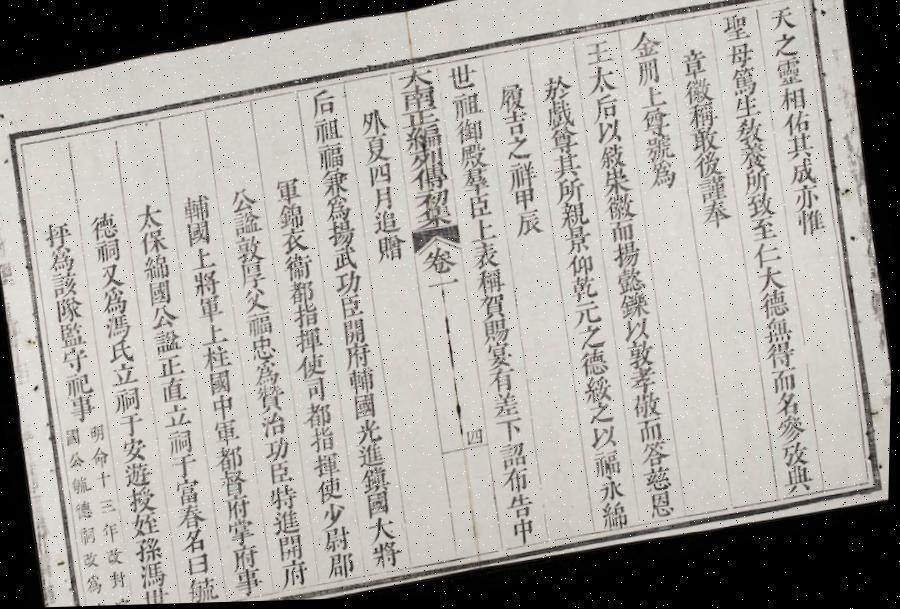c: (418, 244, 462, 280), (408, 164, 454, 197), (582, 64, 622, 100), (401, 124, 446, 156), (756, 290, 796, 324), (368, 539, 408, 573), (676, 47, 712, 84), (468, 239, 506, 274), (627, 29, 665, 64), (541, 99, 579, 134), (644, 161, 682, 196), (717, 13, 755, 48), (598, 501, 635, 536), (178, 190, 216, 224), (372, 233, 410, 267), (537, 72, 575, 106), (590, 450, 628, 484), (781, 466, 819, 500), (397, 86, 440, 116), (640, 134, 680, 166), (412, 205, 456, 234), (494, 81, 530, 116), (86, 207, 122, 242), (132, 198, 168, 233), (269, 172, 305, 207), (393, 66, 438, 94), (445, 61, 482, 95), (280, 250, 317, 284), (566, 274, 603, 308), (253, 382, 290, 416), (775, 416, 812, 450), (504, 160, 541, 194), (447, 91, 485, 124), (598, 168, 636, 201), (601, 194, 639, 227), (231, 233, 269, 266), (323, 550, 362, 582), (185, 572, 224, 604), (139, 250, 175, 284), (764, 5, 800, 39), (359, 134, 395, 168), (771, 58, 807, 92), (306, 87, 342, 121), (726, 68, 762, 102), (188, 266, 225, 299), (458, 167, 495, 200), (698, 202, 735, 235), (609, 241, 646, 274), (679, 77, 716, 110), (629, 391, 666, 424), (475, 292, 512, 325), (482, 341, 519, 374), (278, 558, 315, 591), (198, 342, 236, 374), (472, 267, 510, 299), (616, 292, 654, 324), (580, 38, 618, 70), (276, 226, 314, 258), (612, 267, 650, 299), (686, 128, 724, 160), (308, 116, 346, 148), (47, 268, 85, 300), (764, 342, 802, 374), (58, 343, 96, 375), (228, 207, 267, 238), (111, 383, 147, 416), (578, 349, 614, 382), (172, 475, 208, 508), (739, 168, 775, 201), (560, 226, 596, 259), (624, 340, 660, 373), (768, 32, 804, 65), (406, 147, 450, 174), (217, 467, 254, 499), (150, 326, 187, 358), (690, 152, 727, 184), (125, 484, 162, 516), (135, 226, 172, 258), (224, 516, 261, 548), (301, 399, 338, 431), (355, 106, 392, 138), (317, 168, 354, 200), (793, 210, 830, 242), (368, 208, 405, 240), (313, 474, 350, 506), (637, 108, 674, 140), (754, 266, 791, 298), (232, 566, 269, 598), (320, 524, 357, 556), (761, 318, 798, 350), (365, 515, 402, 547), (66, 392, 103, 424), (43, 242, 80, 274), (548, 152, 586, 183), (694, 178, 732, 209), (61, 369, 99, 400), (546, 128, 584, 159), (749, 242, 787, 273), (488, 391, 526, 422), (778, 443, 816, 474), (641, 466, 679, 497), (137, 558, 173, 590), (134, 534, 170, 566), (582, 376, 618, 408), (274, 200, 310, 232), (271, 506, 307, 538), (292, 325, 328, 357), (288, 300, 324, 332), (722, 42, 758, 74), (588, 94, 624, 126), (324, 218, 360, 250), (775, 86, 811, 118), (40, 216, 76, 248), (570, 300, 606, 332), (314, 142, 350, 174), (96, 284, 132, 316), (736, 144, 772, 176), (638, 441, 674, 473), (236, 258, 272, 290), (52, 292, 88, 324), (782, 134, 818, 166), (55, 318, 91, 350), (358, 464, 394, 496), (274, 532, 310, 564), (455, 142, 492, 173), (213, 443, 250, 474), (294, 351, 331, 382), (552, 177, 589, 208), (129, 509, 166, 540), (249, 358, 286, 389), (451, 118, 489, 148), (399, 107, 444, 132), (210, 416, 245, 448), (157, 374, 192, 406), (631, 59, 666, 91), (164, 426, 200, 457), (744, 194, 780, 225), (556, 202, 592, 233), (267, 482, 303, 513), (732, 119, 768, 150), (104, 335, 140, 366), (310, 450, 346, 481), (788, 185, 824, 216), (497, 441, 533, 472), (328, 244, 364, 275), (306, 425, 342, 456), (746, 217, 782, 248), (785, 160, 821, 191), (90, 235, 126, 266), (122, 459, 158, 490), (352, 417, 388, 448), (320, 194, 356, 225), (426, 275, 464, 304), (646, 492, 680, 524), (512, 210, 547, 241), (595, 144, 630, 175), (226, 183, 261, 214), (504, 492, 539, 523), (175, 502, 211, 532), (684, 104, 720, 134), (479, 318, 515, 348), (588, 424, 624, 454), (239, 286, 275, 316), (779, 112, 815, 142), (768, 369, 804, 399), (626, 368, 662, 398), (258, 410, 292, 441), (194, 293, 228, 324), (147, 302, 182, 332), (501, 136, 536, 166), (160, 400, 195, 430), (243, 310, 278, 340), (101, 311, 136, 341), (498, 111, 533, 141), (345, 366, 380, 396), (355, 441, 390, 471), (229, 542, 264, 572), (485, 366, 520, 396), (247, 334, 282, 364), (494, 417, 529, 447), (772, 392, 807, 422), (574, 325, 610, 354), (500, 468, 536, 497), (119, 434, 153, 464), (204, 368, 238, 398), (144, 278, 178, 308), (182, 219, 216, 249), (342, 342, 376, 372), (332, 270, 366, 300), (116, 409, 150, 439), (318, 501, 352, 531), (108, 360, 143, 389), (362, 491, 397, 520), (350, 391, 382, 422), (222, 492, 255, 522), (339, 318, 372, 348), (180, 526, 213, 556), (95, 261, 128, 291), (509, 518, 542, 548), (155, 352, 189, 381), (730, 95, 764, 124), (564, 253, 598, 282), (596, 478, 630, 507), (622, 317, 656, 346), (412, 188, 454, 211), (262, 436, 296, 464), (198, 320, 232, 348), (606, 220, 640, 248), (337, 292, 368, 322), (208, 392, 239, 422), (464, 194, 496, 223), (594, 120, 626, 149), (636, 418, 668, 447), (300, 376, 332, 405), (636, 86, 669, 114), (170, 452, 202, 480), (468, 217, 500, 245), (266, 458, 298, 486), (184, 550, 216, 578), (286, 279, 319, 306), (365, 162, 396, 190), (586, 403, 618, 430), (369, 185, 398, 214), (188, 244, 218, 272), (510, 188, 542, 214), (142, 584, 176, 606), (90, 442, 114, 470), (70, 472, 95, 497), (74, 496, 98, 522), (77, 522, 101, 548), (101, 517, 124, 544), (104, 544, 128, 568), (108, 566, 132, 590), (87, 420, 110, 445), (85, 570, 107, 596), (64, 423, 86, 448), (97, 494, 120, 517), (464, 426, 487, 449), (68, 447, 90, 471), (94, 468, 116, 491), (82, 547, 103, 571), (112, 592, 136, 606), (88, 597, 112, 607)
